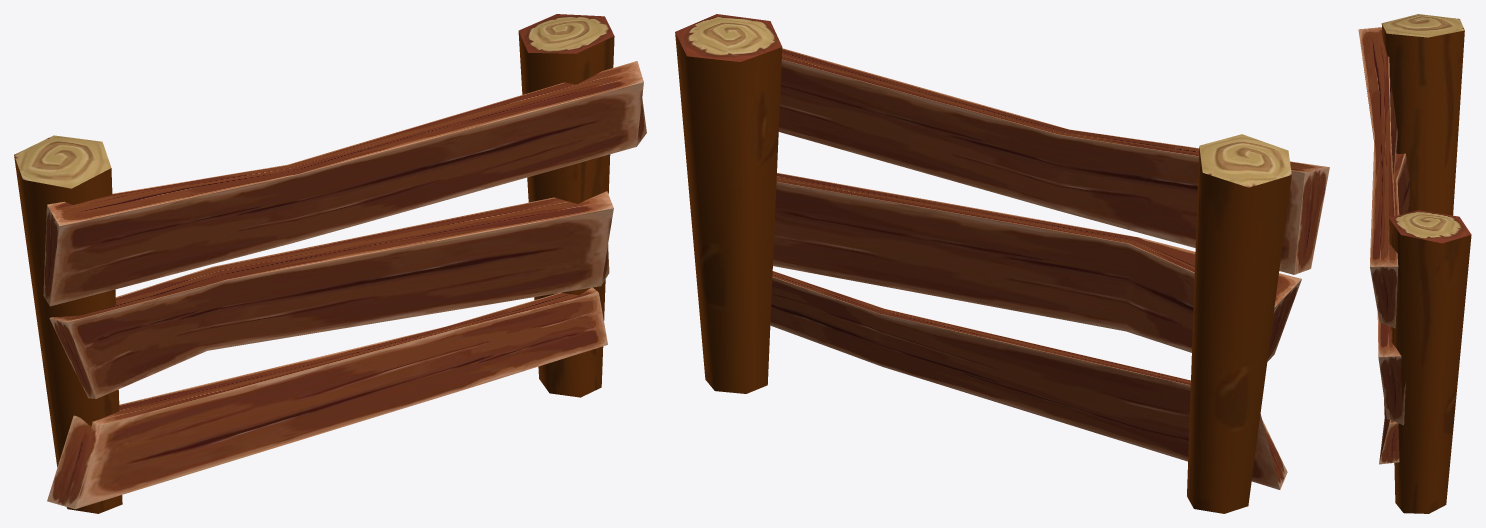
File: SM_PROP_fence_v02_01.glb
3 views of the same model, side by side, from view 1: azimuth 30°, elevation 25°; view 2: azimuth 150°, elevation 25°; view 3: azimuth 270°, elevation 25° (orthographic). The views are drawn at different scales.
Visible parts, largest first — view 1: SM_PROP_fence_v02_01_EXPORT; view 2: SM_PROP_fence_v02_01_EXPORT; view 3: SM_PROP_fence_v02_01_EXPORT.
Boxes of the visible parts, bbox=[...] form: SM_PROP_fence_v02_01_EXPORT: bbox=[14, 14, 646, 513]; SM_PROP_fence_v02_01_EXPORT: bbox=[675, 14, 1329, 513]; SM_PROP_fence_v02_01_EXPORT: bbox=[1358, 14, 1471, 513].
Bounding box in the file's own units: 2.11 × 1.17 × 0.4186.
Materials: 3 (3 with a texture image).
